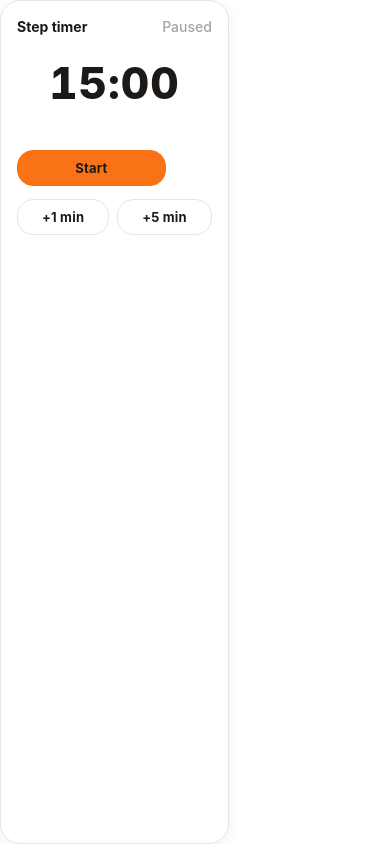
CookingTimer › adds time to the remaining duration
The image size is (390, 844).
Click the button "+1 min".
click(63, 217)  # box [17, 199, 109, 235]
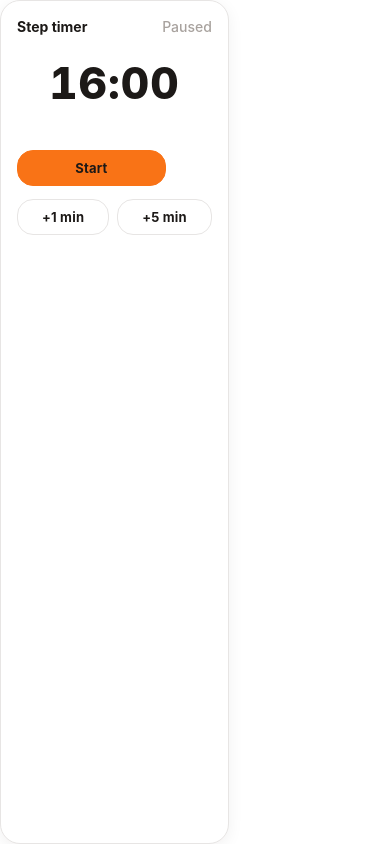
Expected: the text "16:00" is shown, [49, 57, 180, 109]
